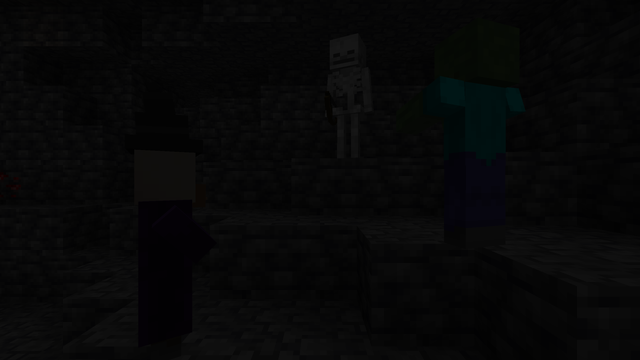sorcieres: (109, 141, 209, 356)
squelettes: (330, 34, 368, 158)
zombies: (430, 24, 530, 251)
